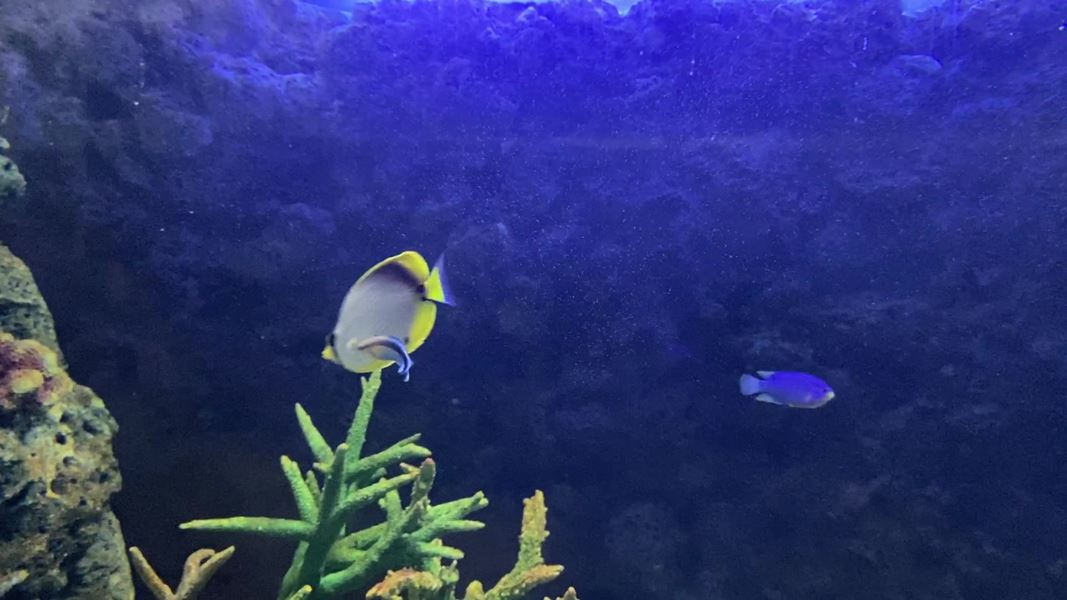Bluesteak cleaner wrasse: (341, 332, 429, 392)
